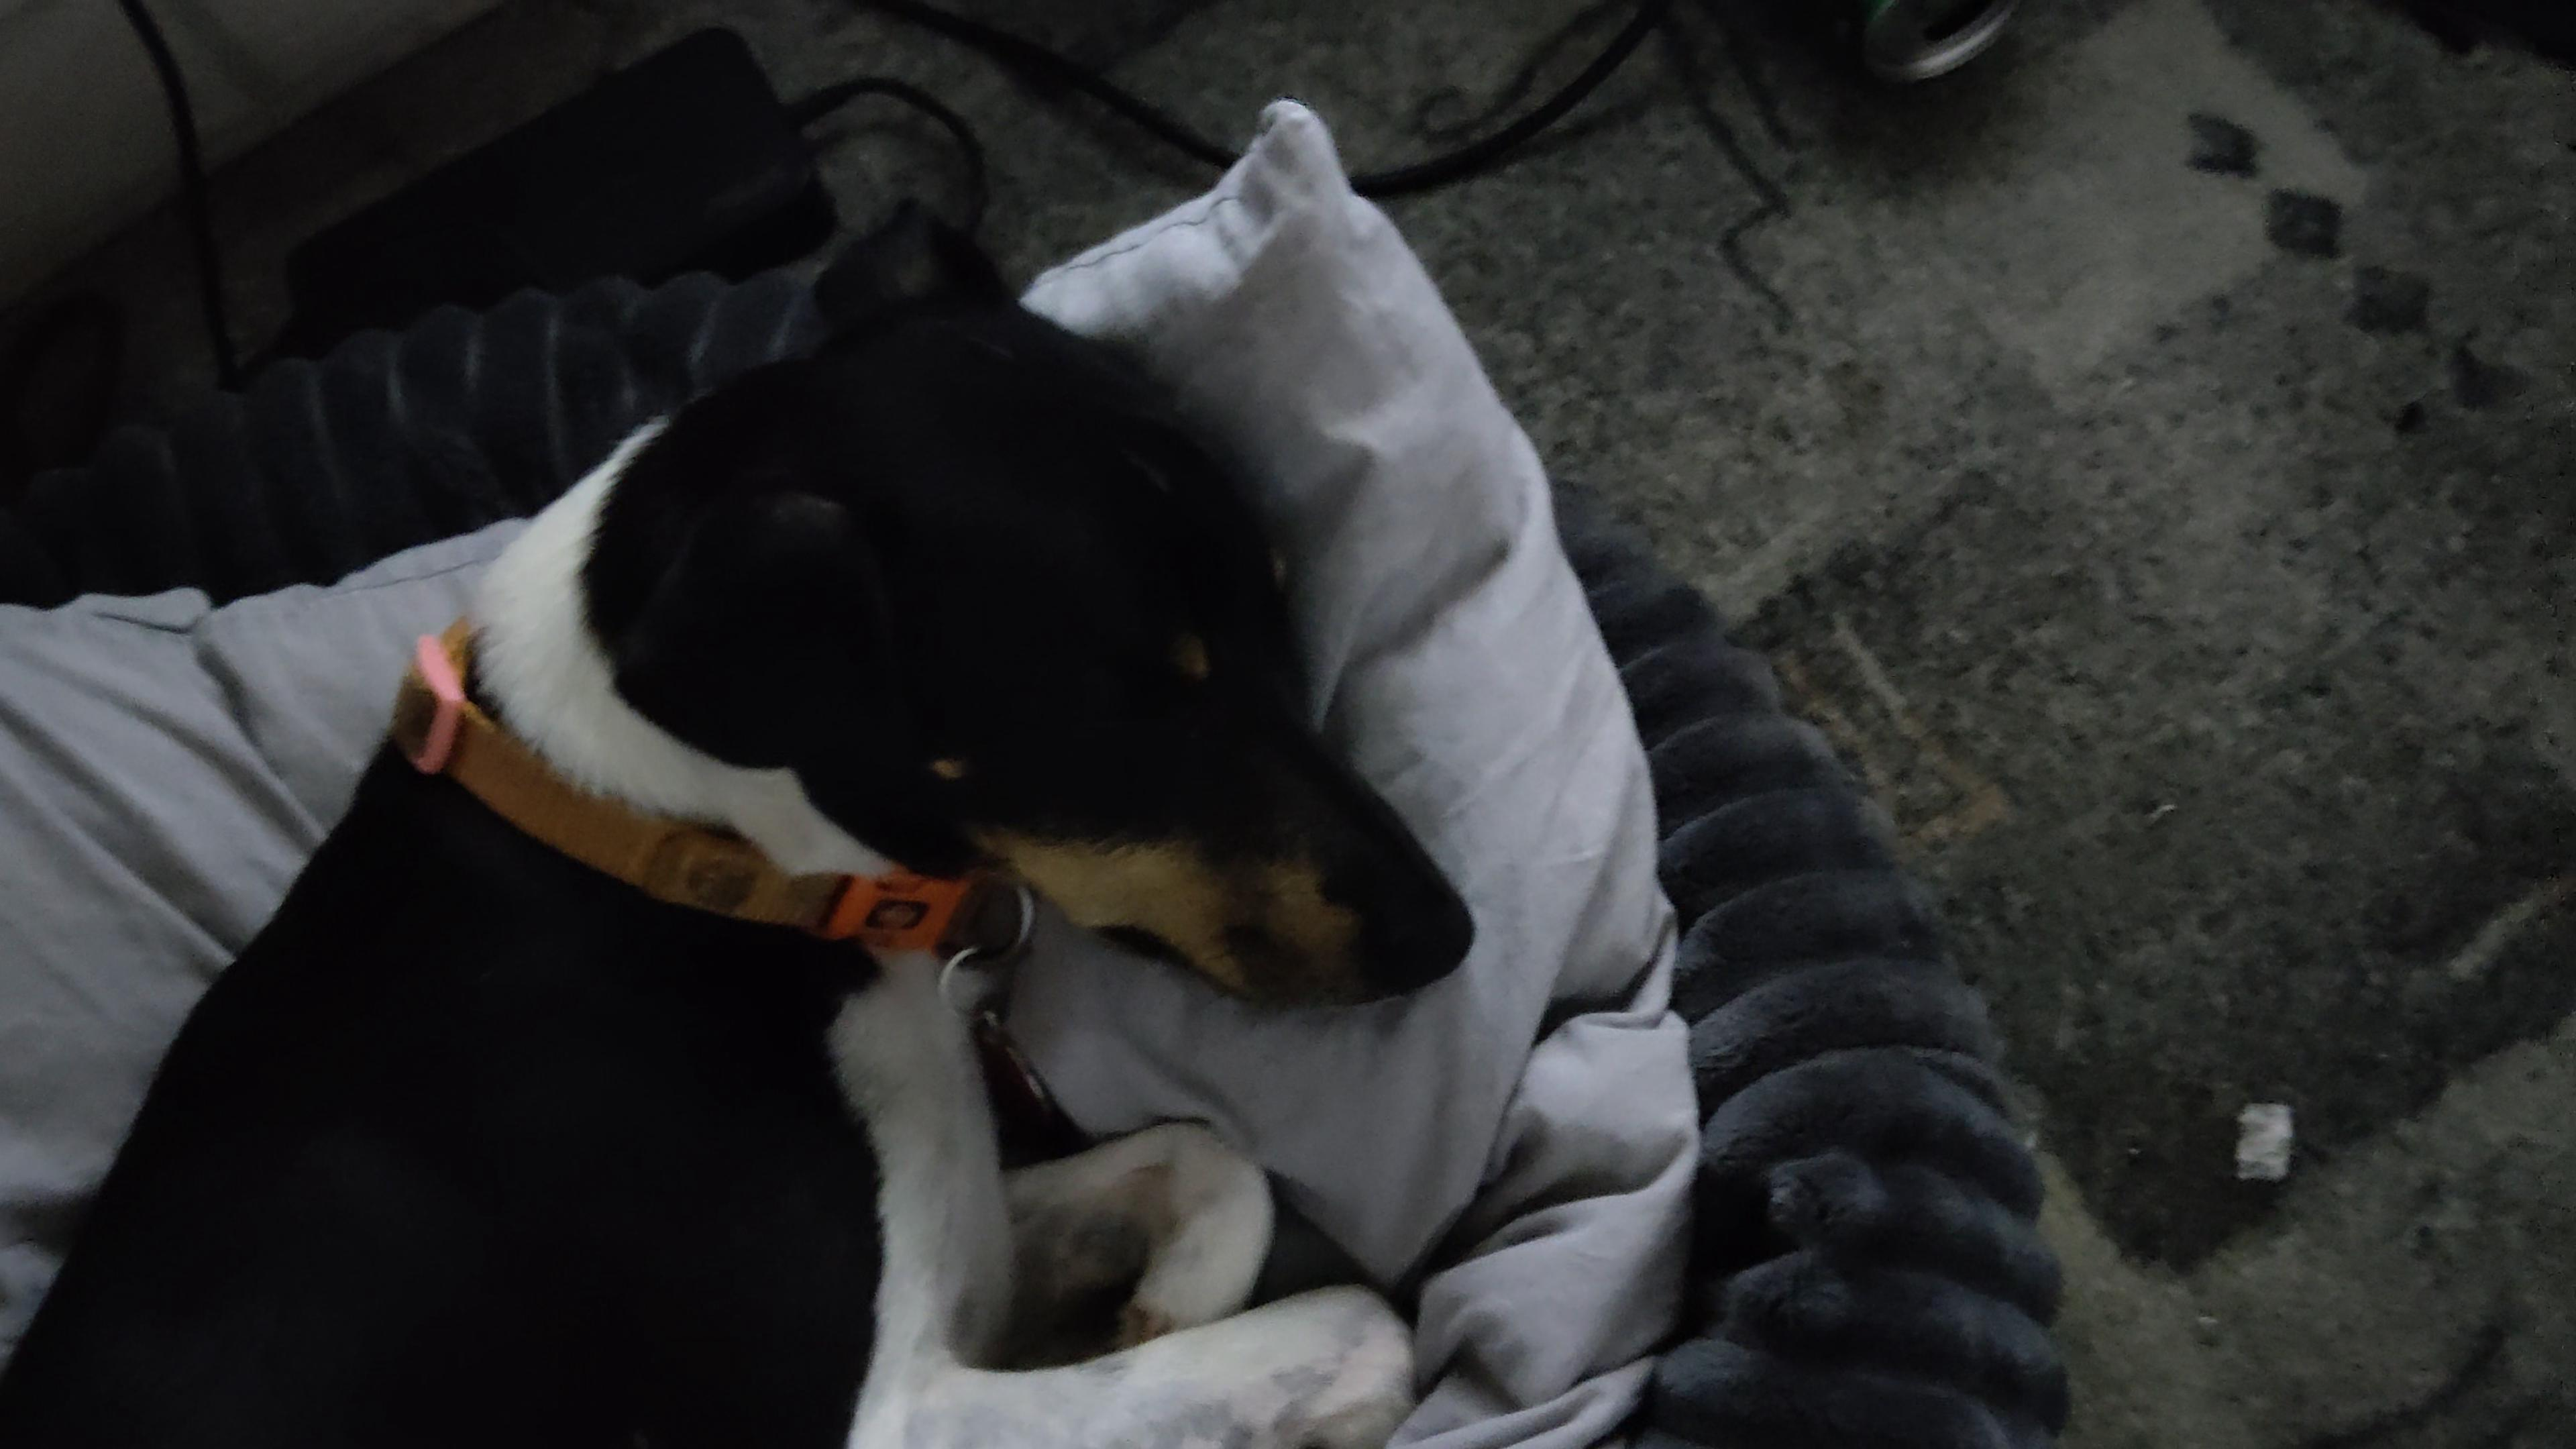Dog: (0, 186, 1516, 1449)
